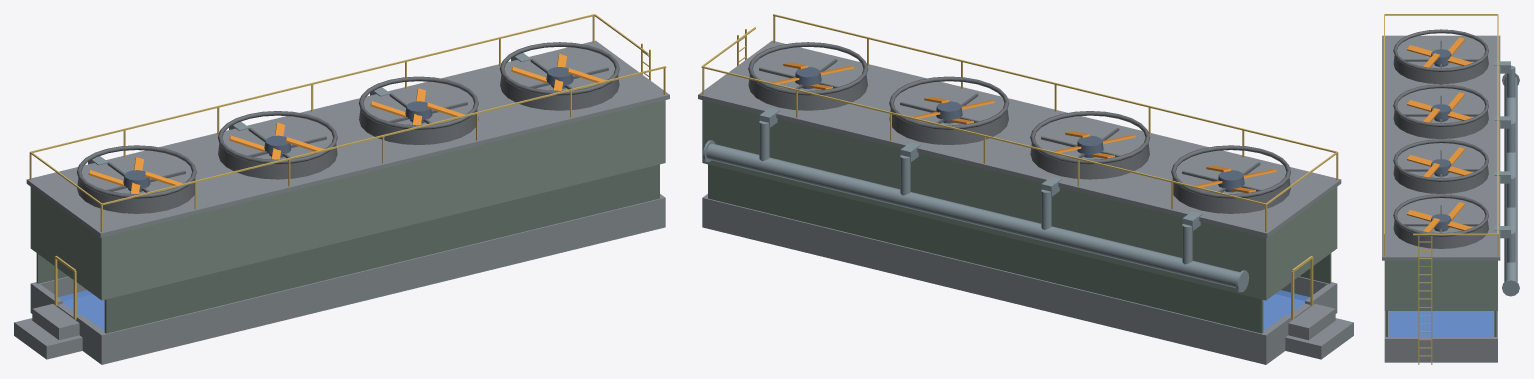
The model's file is 1x4_cooling_tower_raised_sill.glb.
The picture shows the model from 3 angles, left to right: view 1: azimuth 30°, elevation 25°; view 2: azimuth 150°, elevation 25°; view 3: azimuth 270°, elevation 25°; orthographic projection. The views are drawn at different scales.
Visible parts, largest first — view 1: Cooling_Tower_1x4_Assembly, Casing_1x4_Structure, Top_Fan_Deck, Basin_Slab, Fan_Cowl_1, Fan_Cowl_3, Fan_Cowl_2, Fan_Cowl_0, Concrete_Threshold_Step_Lower, Concrete_Threshold_Step_Upper, Basin_Water_Level; view 2: Cooling_Tower_1x4_Assembly, Casing_1x4_Structure, Top_Fan_Deck, Distribution_Header_Pipe_Main, Basin_Slab, Fan_Cowl_1, Fan_Cowl_3, Fan_Cowl_2, Fan_Cowl_0, Concrete_Threshold_Step_Lower, Concrete_Threshold_Step_Upper, Basin_Water_Level; view 3: Top_Fan_Deck, Cooling_Tower_1x4_Assembly, Casing_1x4_Structure, Basin_Slab, Basin_Water_Level, Distribution_Header_Pipe_Main, Fan_Cowl_0, Fan_Cowl_2, Fan_Cowl_1, Fan_Cowl_3, Hub_2, Hub_0 (+14 smaller).
Part boxes in pixels (x1,y1,x2,y2): Cooling_Tower_1x4_Assembly: (29, 14, 666, 364); Casing_1x4_Structure: (30, 100, 665, 300); Top_Fan_Deck: (26, 40, 669, 237); Basin_Slab: (30, 222, 665, 364); Fan_Cowl_1: (218, 143, 337, 179); Fan_Cowl_3: (500, 74, 619, 110); Fan_Cowl_2: (359, 109, 478, 144); Fan_Cowl_0: (77, 178, 195, 213); Concrete_Threshold_Step_Lower: (14, 318, 82, 359); Concrete_Threshold_Step_Upper: (32, 304, 79, 340); Basin_Water_Level: (58, 290, 104, 330); Cooling_Tower_1x4_Assembly: (701, 14, 1338, 364); Casing_1x4_Structure: (702, 100, 1337, 300); Top_Fan_Deck: (698, 40, 1341, 237); Distribution_Header_Pipe_Main: (706, 143, 1239, 288); Basin_Slab: (702, 221, 1304, 364); Fan_Cowl_1: (1030, 143, 1149, 179); Fan_Cowl_3: (748, 74, 867, 110); Fan_Cowl_2: (889, 109, 1008, 144); Fan_Cowl_0: (1172, 178, 1290, 213); Concrete_Threshold_Step_Lower: (1285, 318, 1353, 359); Concrete_Threshold_Step_Upper: (1288, 304, 1335, 340); Basin_Water_Level: (1263, 290, 1309, 330); Top_Fan_Deck: (1382, 35, 1500, 260); Cooling_Tower_1x4_Assembly: (1384, 14, 1519, 364); Casing_1x4_Structure: (1384, 260, 1497, 310); Basin_Slab: (1385, 311, 1497, 362); Basin_Water_Level: (1389, 311, 1493, 336); Distribution_Header_Pipe_Main: (1504, 77, 1517, 282); Fan_Cowl_0: (1393, 55, 1488, 84); Fan_Cowl_2: (1393, 165, 1488, 193); Fan_Cowl_1: (1393, 110, 1488, 138); Fan_Cowl_3: (1393, 220, 1488, 248); Hub_2: (1430, 159, 1451, 174); Hub_0: (1431, 49, 1451, 64).
Bounding box in the file's own units: 23.64 × 6.01 × 5.83.
